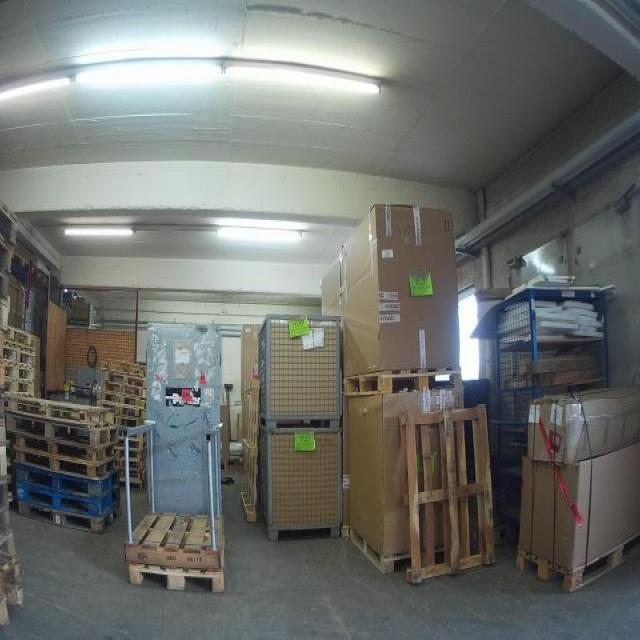pallet: (397, 400, 499, 586), (515, 531, 640, 595), (119, 509, 229, 572), (344, 364, 466, 400), (348, 519, 413, 579), (15, 496, 119, 532), (5, 417, 116, 446), (126, 563, 229, 594), (12, 449, 126, 476), (11, 433, 114, 462), (238, 381, 259, 523), (8, 397, 112, 423), (13, 465, 121, 490), (13, 482, 117, 507), (1, 585, 22, 629), (104, 356, 150, 374), (1, 363, 35, 379), (107, 372, 146, 385), (2, 341, 39, 354), (5, 325, 34, 341), (4, 559, 18, 589), (116, 423, 143, 437), (1, 381, 34, 392), (114, 416, 146, 427), (0, 354, 35, 364), (108, 387, 145, 396), (0, 392, 32, 402), (111, 397, 146, 406), (111, 407, 144, 415), (1, 535, 13, 556), (1, 506, 9, 535)
stillage: (257, 313, 344, 428), (259, 428, 343, 544)
